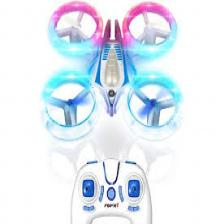drone: (29, 0, 194, 161)
